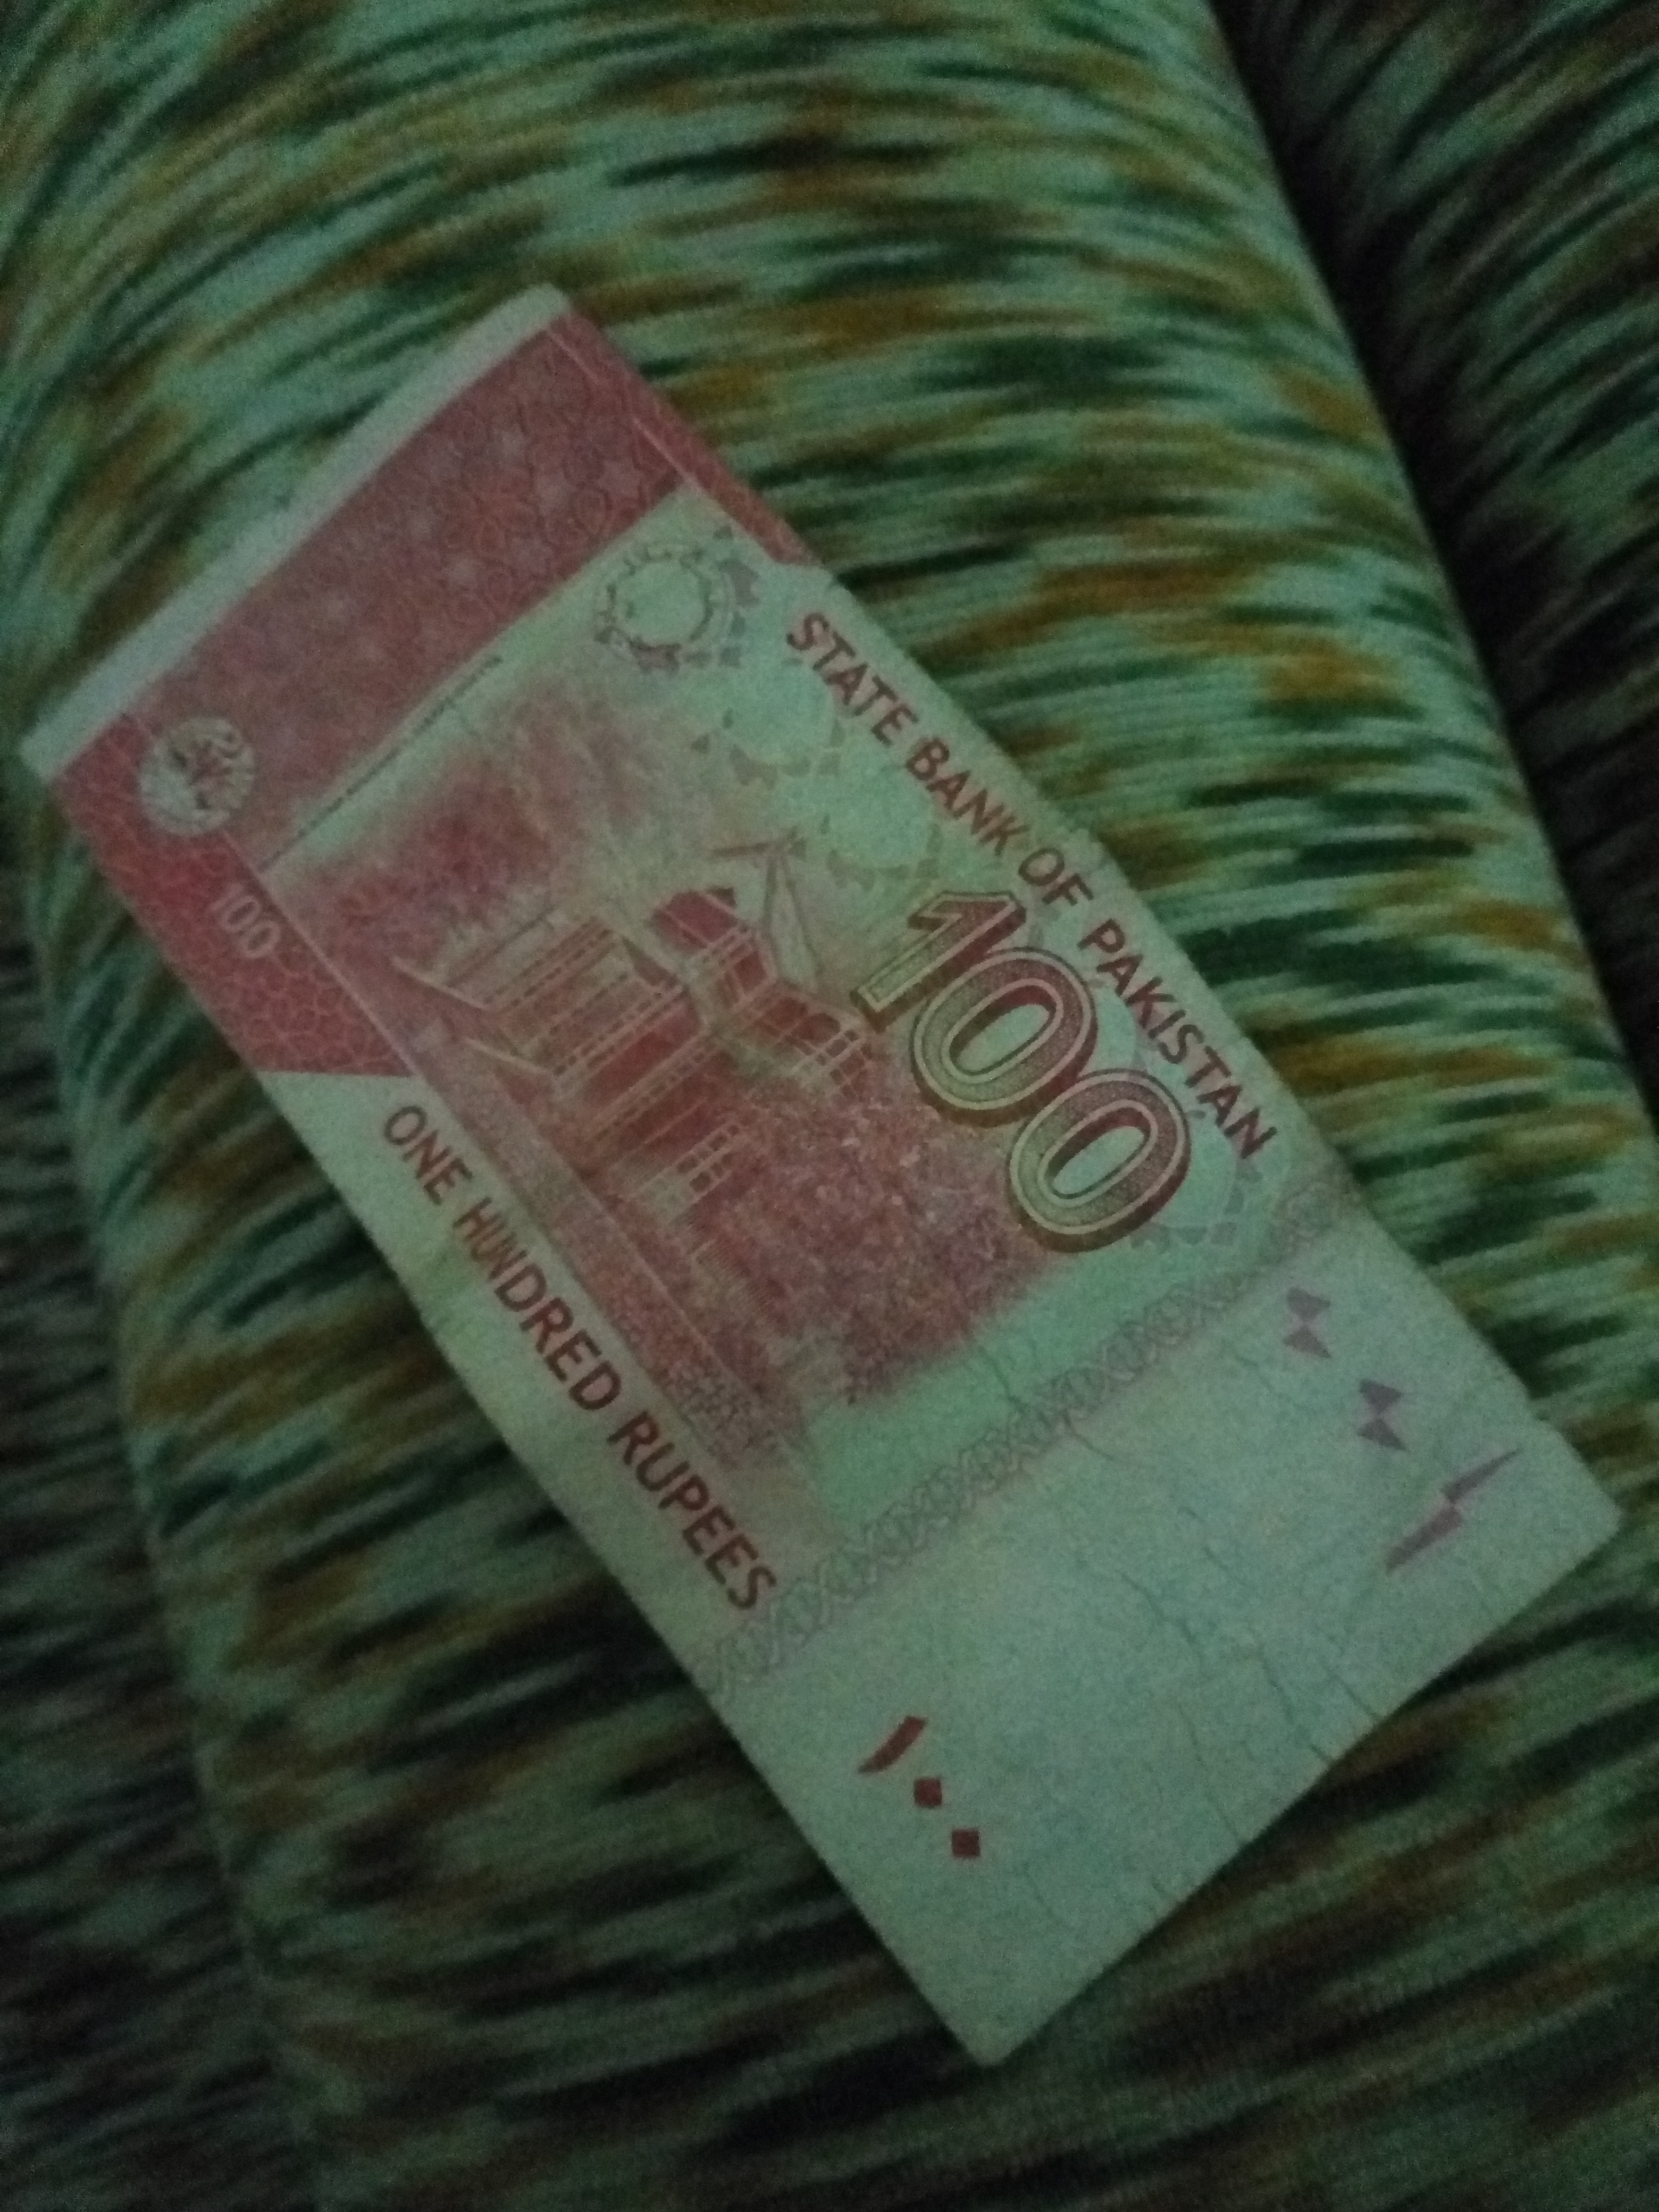100 rupee: (38, 329, 1621, 2141)
